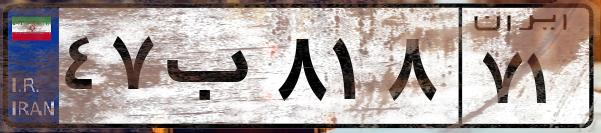1: (330, 28, 385, 110), (525, 38, 570, 115)
4: (57, 26, 110, 100)
7: (475, 38, 525, 113), (110, 28, 158, 98)
8: (270, 28, 330, 110), (385, 28, 445, 110)
ب: (158, 20, 270, 120)
